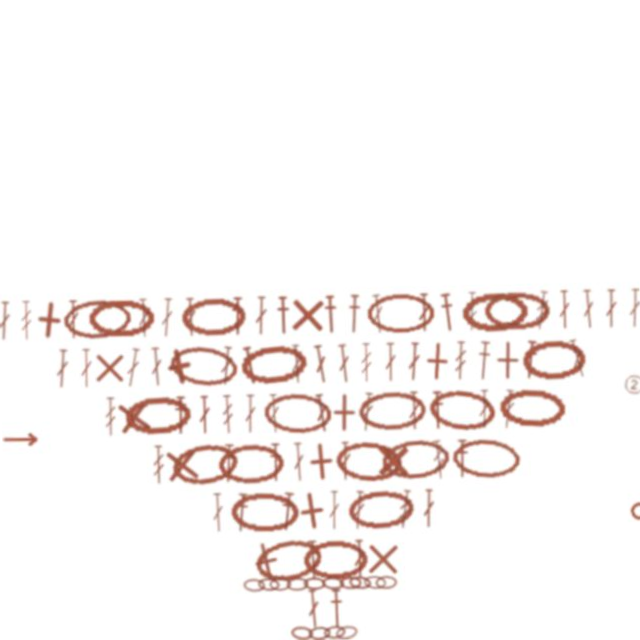chain: (248, 535, 319, 584), (167, 340, 238, 388), (167, 438, 238, 485), (425, 389, 495, 436), (448, 440, 518, 484), (331, 440, 400, 484), (238, 342, 307, 386), (378, 440, 447, 483), (261, 391, 330, 434), (496, 391, 564, 434), (343, 490, 412, 532), (63, 294, 131, 336), (226, 490, 295, 531), (356, 392, 424, 433), (122, 392, 189, 433), (215, 442, 282, 482), (461, 295, 528, 335), (484, 295, 551, 335), (181, 295, 247, 335), (367, 295, 434, 334), (521, 344, 586, 384), (298, 540, 364, 579), (88, 295, 154, 334), (284, 625, 307, 640), (317, 625, 340, 640), (329, 625, 352, 640), (252, 576, 275, 591), (316, 576, 339, 591), (343, 576, 366, 591), (358, 576, 381, 591), (302, 626, 324, 640), (238, 577, 260, 591), (264, 577, 286, 590), (281, 577, 303, 590), (298, 577, 320, 590), (334, 577, 356, 590), (370, 577, 392, 590)
double: (566, 343, 588, 384), (122, 344, 142, 384), (311, 393, 329, 433), (311, 344, 329, 384), (357, 393, 374, 433), (498, 393, 515, 433), (217, 344, 234, 384), (347, 491, 363, 531), (335, 344, 351, 384), (370, 295, 386, 335), (405, 344, 421, 383), (159, 295, 175, 334), (300, 589, 315, 628), (265, 393, 280, 432), (54, 344, 69, 383), (148, 344, 163, 383), (581, 295, 596, 334), (207, 491, 221, 530), (418, 491, 432, 530), (289, 442, 303, 481), (289, 344, 303, 383), (137, 295, 151, 334), (184, 295, 198, 334), (254, 295, 268, 334), (348, 540, 361, 579), (324, 491, 337, 530), (336, 442, 349, 481), (196, 393, 209, 432), (242, 393, 255, 432), (406, 393, 419, 432), (476, 393, 489, 432), (79, 344, 92, 383), (383, 344, 396, 383), (67, 295, 80, 334), (418, 295, 431, 334), (558, 295, 571, 334), (605, 295, 618, 334), (0, 295, 12, 334), (628, 295, 640, 334)
half_double: (239, 344, 259, 384), (274, 491, 293, 531), (520, 344, 539, 384), (438, 295, 457, 335), (229, 491, 247, 531), (474, 344, 492, 384), (217, 442, 234, 481), (346, 295, 363, 334), (300, 540, 316, 579), (323, 589, 338, 628), (265, 442, 280, 481), (452, 442, 467, 481), (171, 393, 186, 432), (428, 393, 443, 432), (230, 295, 245, 334), (276, 295, 291, 334), (323, 295, 338, 334)
noise: (0, 426, 37, 440), (621, 379, 640, 403), (624, 506, 640, 528)
single: (238, 537, 284, 583), (156, 341, 201, 386), (110, 391, 154, 435), (286, 489, 329, 532), (28, 293, 71, 336), (158, 441, 200, 483), (298, 441, 339, 482), (416, 343, 457, 384), (287, 294, 328, 335), (358, 540, 398, 580), (370, 442, 410, 482), (487, 344, 527, 384), (323, 393, 362, 433), (89, 344, 128, 383)
treble: (392, 491, 410, 531), (533, 295, 551, 335), (428, 442, 444, 482), (452, 344, 467, 383), (219, 393, 233, 432), (465, 295, 479, 334), (149, 442, 162, 481), (102, 393, 115, 432), (359, 344, 372, 383), (20, 295, 33, 334)
